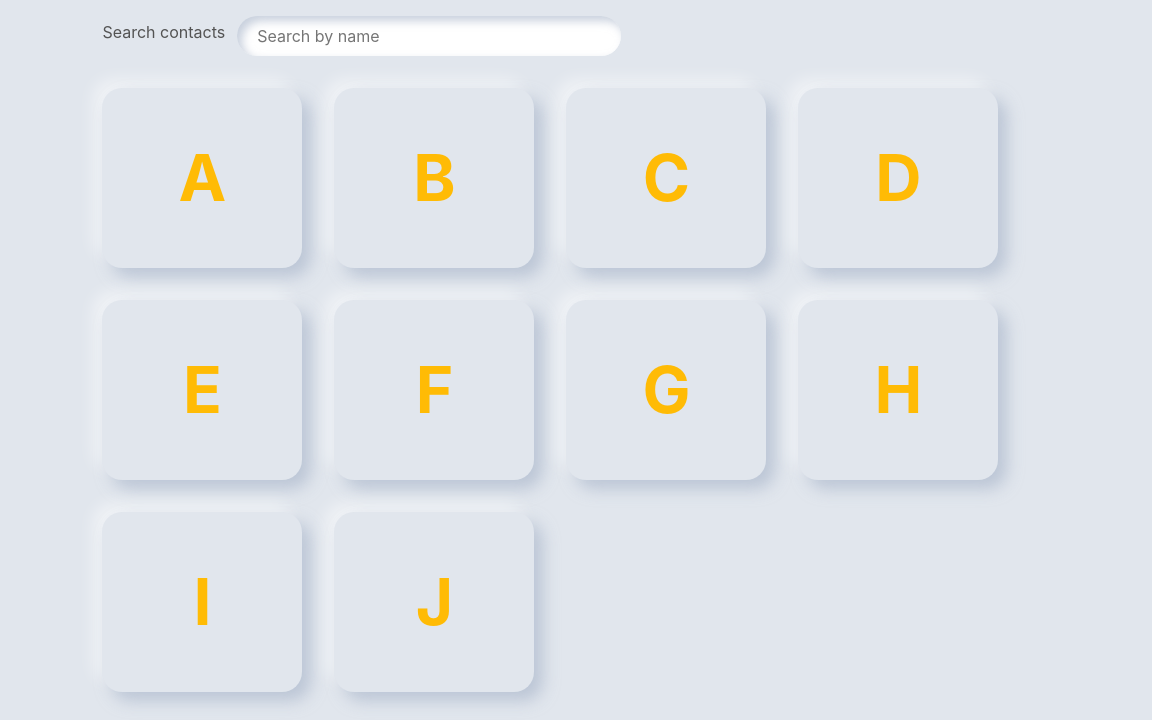
Scenario: remove confirmation › confirming a removal announces it via a status message
Click the button "F".
click(434, 390)  # box left=334, top=300, right=534, bottom=480
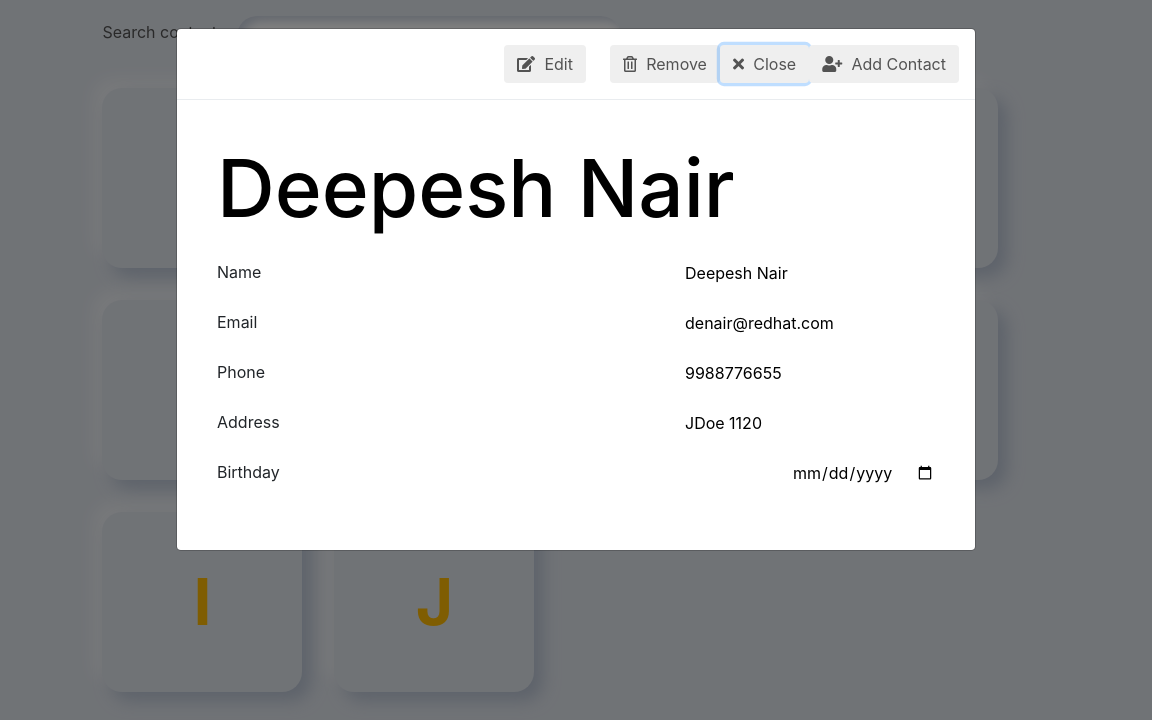
Click the button "Remove".
click(665, 64)  # box left=610, top=45, right=720, bottom=83
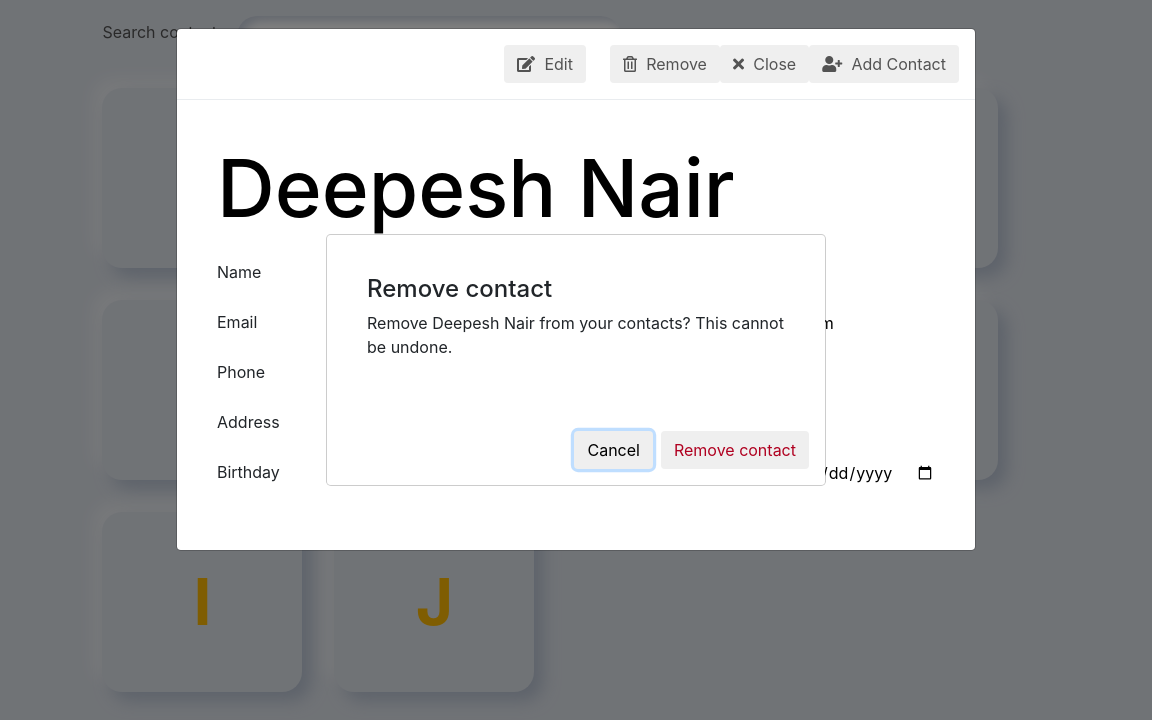
Click the button "Remove contact".
click(735, 450)  # box left=661, top=431, right=809, bottom=469
(page scrolled)
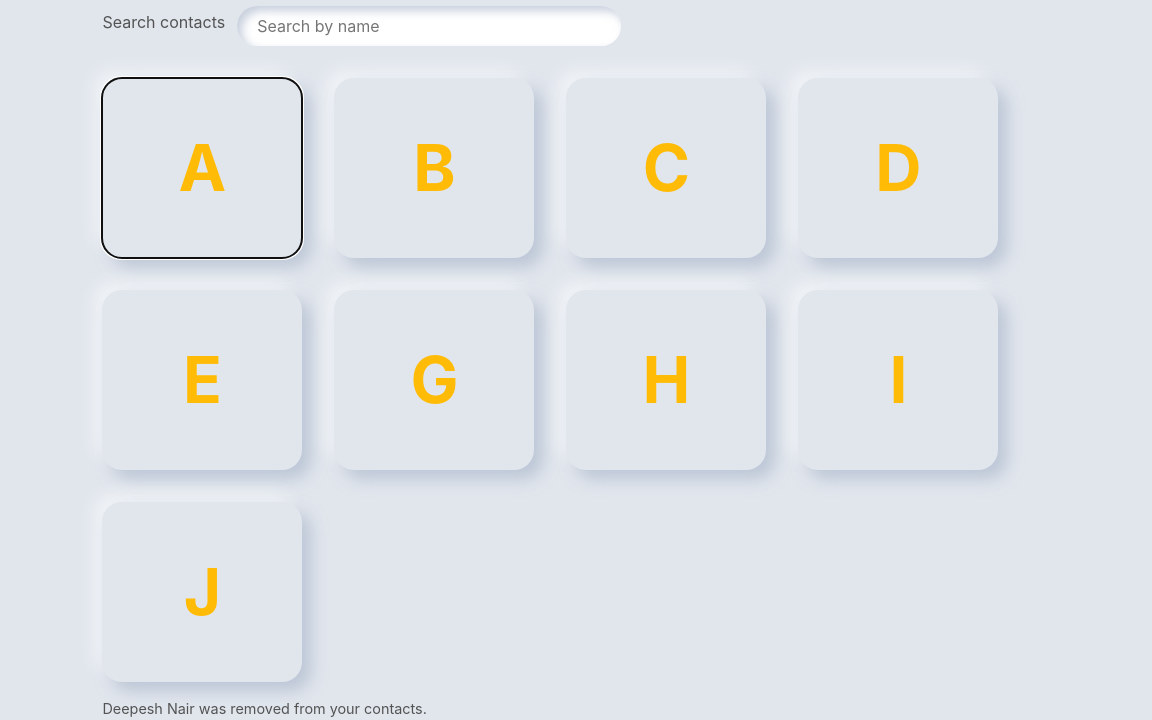
Expected: the message reads "Deepesh Nair was removed from your contacts.", left=102, top=700, right=427, bottom=717
